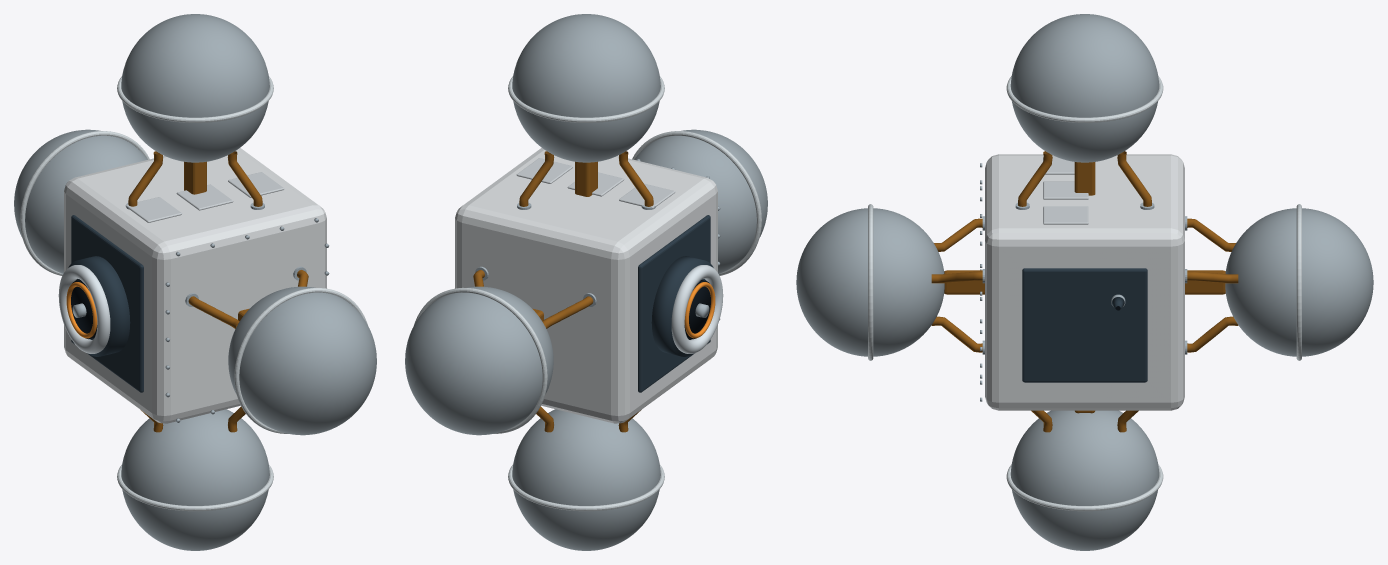
Rendered from ios_depot_sim.glb.
3 renders of one model, left to right at view 1: azimuth 30°, elevation 25°; view 2: azimuth 150°, elevation 25°; view 3: azimuth 270°, elevation 25°, orthographic.
Parts seen in each view (by area): view 1: object 1, object 3, object 2, tank_restraint_band_04, tank_restraint_band_03, tank_restraint_band_01, tank_restraint_band_02, tank_attachment_spar_01; view 2: object 1, object 2, object 3, tank_restraint_band_03, tank_restraint_band_04, tank_restraint_band_01, tank_restraint_band_02, tank_attachment_spar_01; view 3: object 1, object 2, object 3, tank_restraint_band_01, tank_restraint_band_02, tank_restraint_band_03, tank_restraint_band_04, tank_attachment_spar_01.
Part boxes in pixels (x1,y1,x2,y2): object 1: (14,14,376,550); object 3: (125,172,284,222); object 2: (128,151,308,432); tank_restraint_band_04: (234,287,367,433); tank_restraint_band_03: (20,131,149,275); tank_restraint_band_01: (117,76,273,122); tank_restraint_band_02: (117,465,273,511); tank_attachment_spar_01: (184,161,206,194); object 1: (405,14,767,550); object 2: (473,151,653,432); object 3: (516,158,675,208); tank_restraint_band_03: (414,287,547,433); tank_restraint_band_04: (632,131,761,275); tank_restraint_band_01: (508,76,664,122); tank_restraint_band_02: (508,465,664,511); tank_attachment_spar_01: (575,161,597,196); object 1: (796,14,1373,550); object 2: (931,151,1238,432); object 3: (1043,156,1088,224); tank_restraint_band_01: (1006,76,1163,122); tank_restraint_band_02: (1006,464,1163,511); tank_restraint_band_03: (1296,204,1301,360); tank_restraint_band_04: (868,204,873,360); tank_attachment_spar_01: (1074,162,1095,195).
Size of the model in its own units: 2.73 by 6.06 by 6.06.
